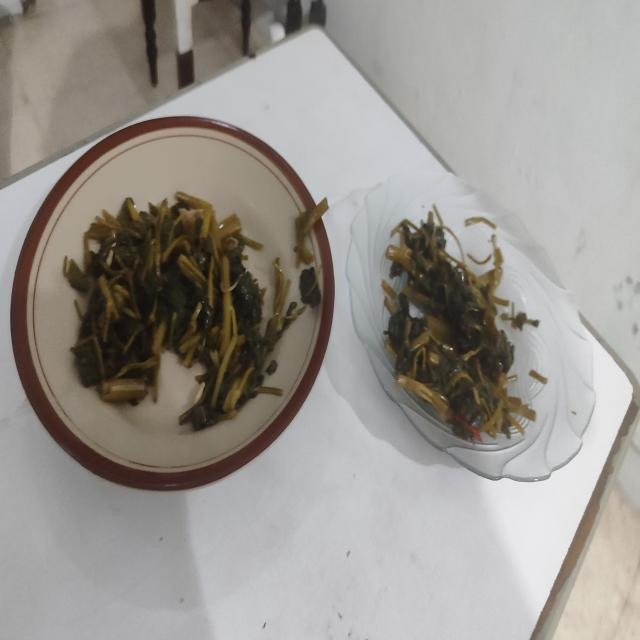tumis_kangkung: (64, 192, 286, 430), (382, 212, 535, 440)
